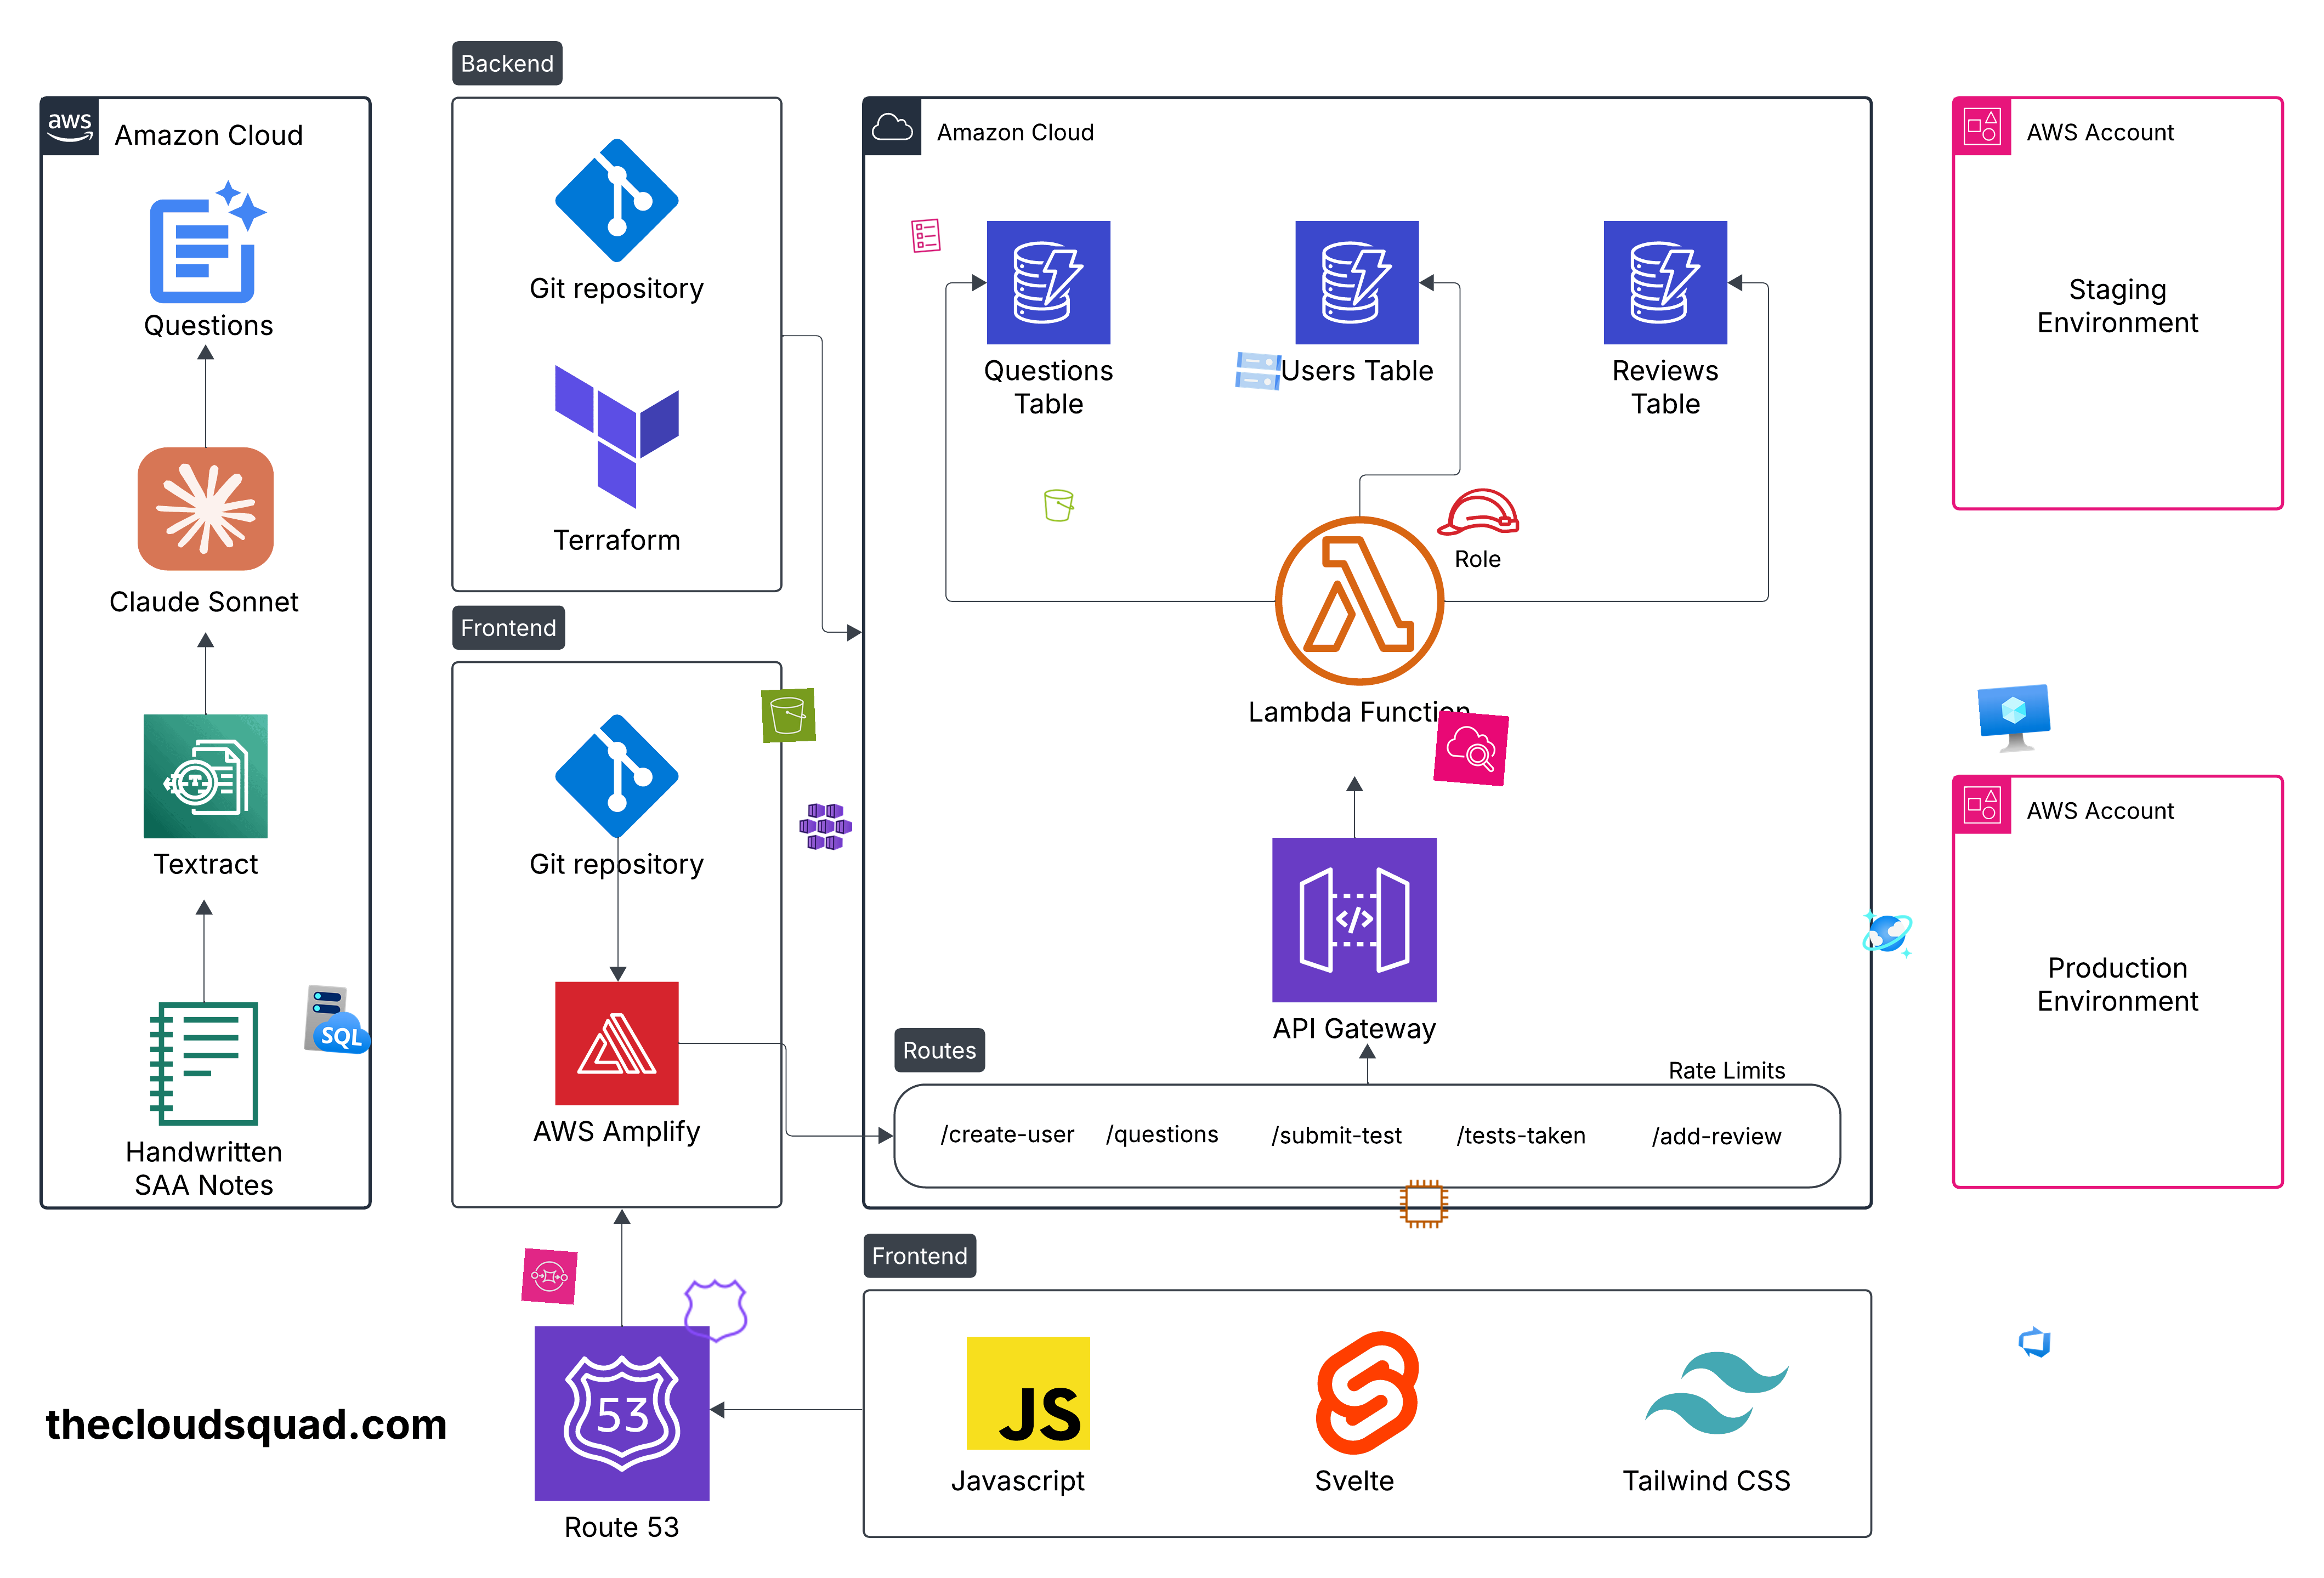aws_amazon_cloudwatch: (1433, 710, 1509, 787)
aws_amazon_simple_queue_service: (521, 1249, 577, 1305)
aws_amazon_simple_storage_service: (761, 689, 815, 743)
aws_cloudformation_template: (907, 217, 945, 255)
aws_ec2_instance: (1398, 1176, 1451, 1231)
aws_route_53_hosted_zone: (680, 1275, 752, 1347)
aws_simple_storage_service_bucket: (1041, 486, 1077, 525)
azure_cosmos_db: (1861, 907, 1914, 960)
azure_devops: (2016, 1323, 2053, 1360)
azure_kubernetes_services: (799, 800, 852, 852)
azure_sql_managed_instance: (301, 983, 377, 1058)
azure_virtual_machine: (1977, 683, 2053, 759)
gcp_cloud_storage: (1231, 343, 1287, 400)
